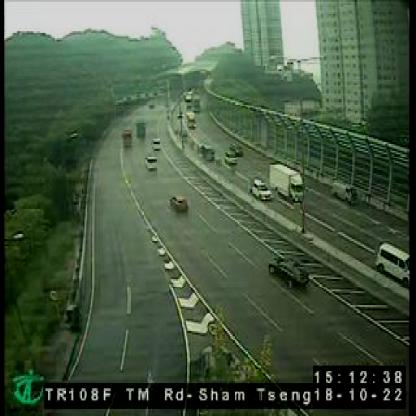Car: (374, 242, 410, 285), (270, 255, 310, 288), (251, 176, 273, 202), (170, 192, 190, 214), (200, 142, 216, 165), (223, 150, 239, 166), (230, 142, 246, 156), (146, 153, 158, 171), (151, 137, 162, 151)
Truck: (269, 161, 306, 203), (331, 179, 357, 204), (122, 128, 134, 150), (185, 111, 198, 131), (136, 118, 148, 139)
